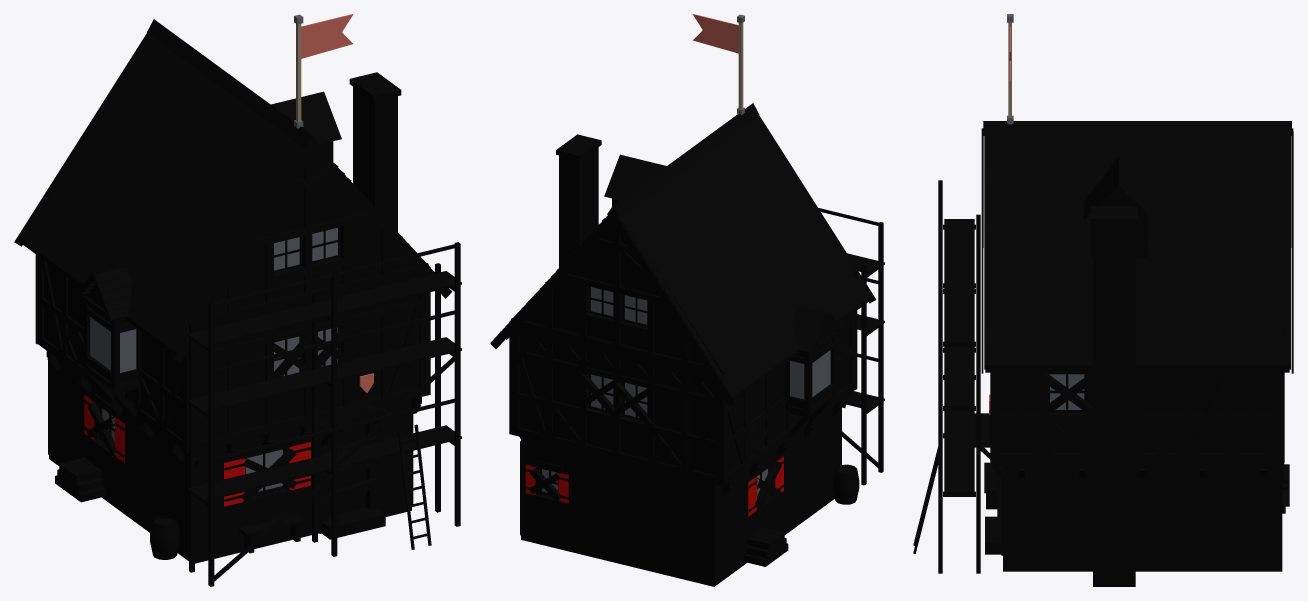
The model's file is wohnhaus_mensch_s2_g4.glb.
3 views of the same model, side by side, from view 1: azimuth 30°, elevation 25°; view 2: azimuth 150°, elevation 25°; view 3: azimuth 270°, elevation 25° (orthographic). The views are drawn at different scales.
Visible parts, largest first — view 1: Haus, Dach, Geruest, Scheiben, Leerstand, Fahne; view 2: Haus, Dach, Geruest, Scheiben, Leerstand, Fahne; view 3: Dach, Haus, Geruest, Leerstand, Scheiben, Fahne.
Boxes of the visible parts, x1,y1,x2,y2 form: Haus: (35,37,430,563); Dach: (14,19,452,362); Geruest: (187,242,461,586); Scheiben: (90,228,337,491); Leerstand: (86,326,378,504); Fahne: (294,14,353,128); Haus: (509,118,859,586); Dach: (490,103,876,406); Geruest: (818,208,884,485); Scheiben: (542,287,830,495); Leerstand: (529,374,781,508); Fahne: (693,14,744,114); Dach: (981,121,1293,373); Haus: (970,137,1285,586); Geruest: (913,180,980,573); Leerstand: (985,369,1289,519); Scheiben: (1050,374,1084,409); Fahne: (1007,14,1013,124).
Bounding box in the file's own units: 7.04 × 11.75 × 8.03.
